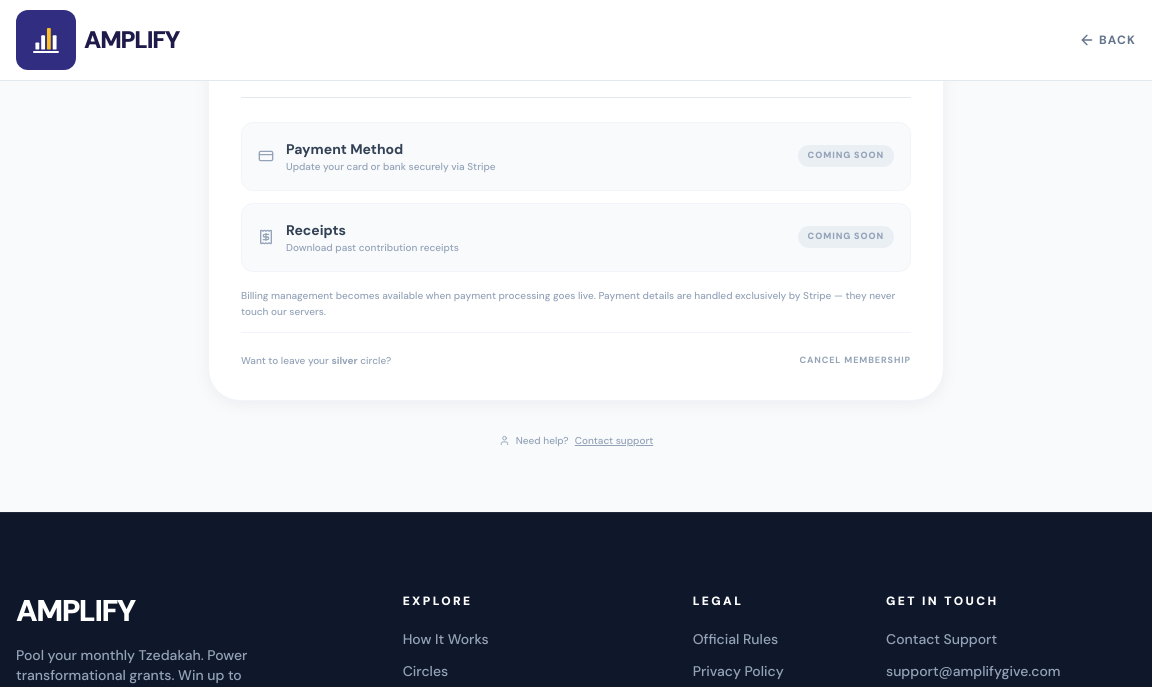
AccountPage cancellation › goes straight to the confirm prompt for silver, which has nothing lower to offer
(page scrolled)
Click the button "Cancel membership": (855, 361) [800,354,911,367]
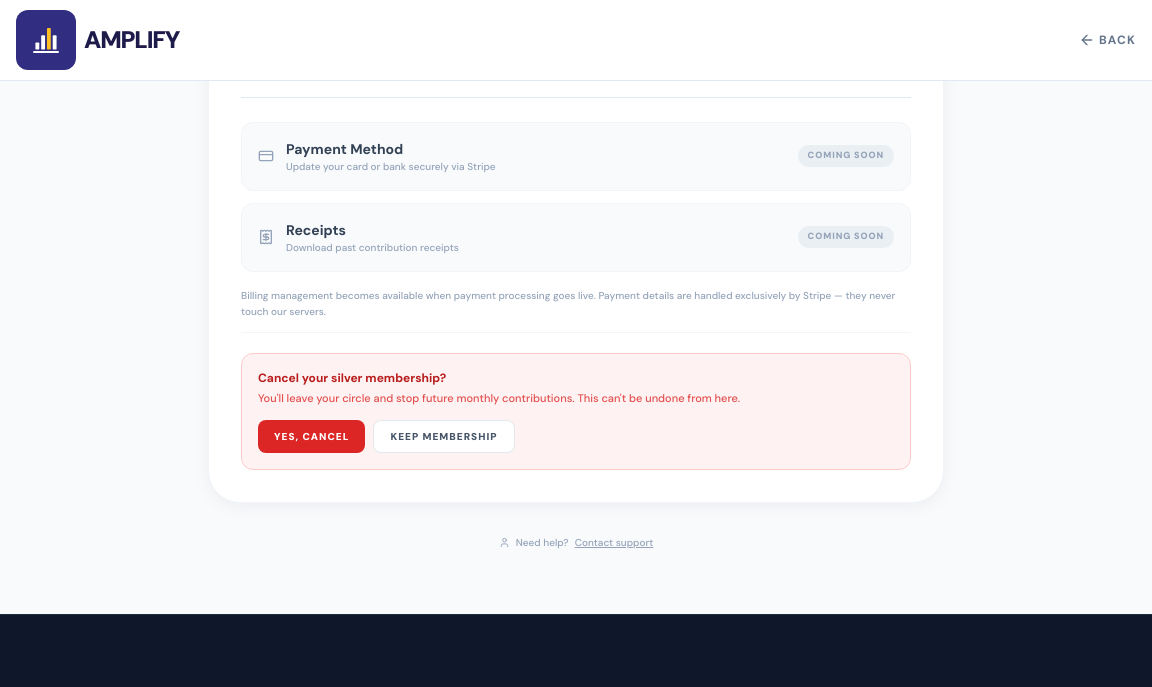
Result: the button "Yes, Cancel" is shown at [258,420,365,453]
